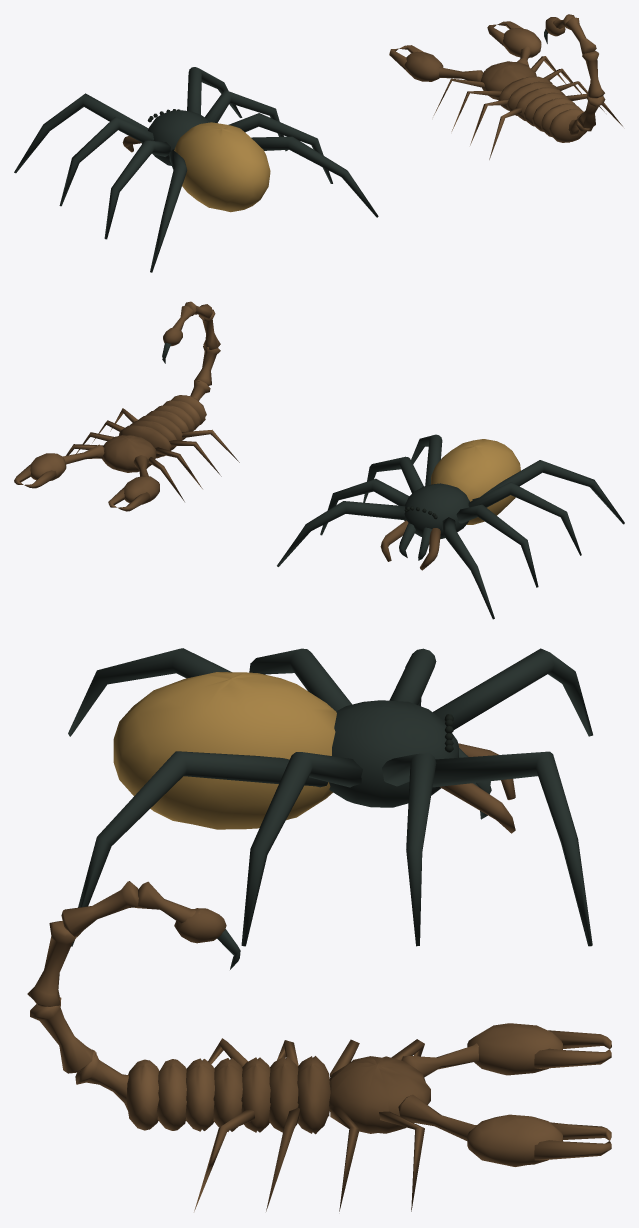
The picture shows the model from 3 angles, top to bottom: view 1: azimuth 30°, elevation 25°; view 2: azimuth 150°, elevation 25°; view 3: azimuth 270°, elevation 25°; orthographic projection. The views are drawn at different scales.
Parts seen in each view (by area): view 1: B13_SPEC_Chitin_export, B13_SPEC_Bark_export, B13_SPEC_Iridescent bronze_export; view 2: B13_SPEC_Chitin_export, B13_SPEC_Bark_export, B13_SPEC_Iridescent bronze_export; view 3: B13_SPEC_Bark_export, B13_SPEC_Chitin_export, B13_SPEC_Iridescent bronze_export.
Boxes of the visible parts, bbox=[...] form: B13_SPEC_Chitin_export: bbox=[14, 29, 548, 272]; B13_SPEC_Bark_export: bbox=[122, 14, 622, 159]; B13_SPEC_Iridescent bronze_export: bbox=[174, 122, 270, 212]; B13_SPEC_Chitin_export: bbox=[162, 342, 624, 619]; B13_SPEC_Bark_export: bbox=[14, 301, 440, 570]; B13_SPEC_Iridescent bronze_export: bbox=[431, 439, 520, 524]; B13_SPEC_Bark_export: bbox=[27, 743, 611, 1211]; B13_SPEC_Chitin_export: bbox=[68, 648, 592, 969]; B13_SPEC_Iridescent bronze_export: bbox=[113, 672, 336, 829].
Size of the model in its own units: 2.39 by 0.6327 by 1.25.
